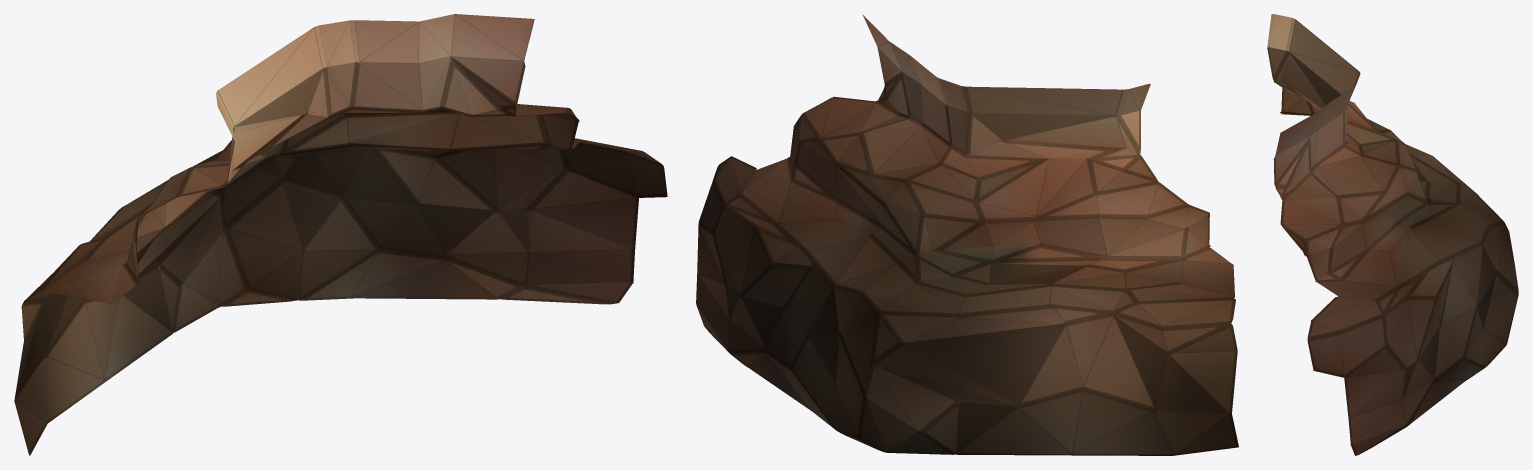
Rendered from structure_wall002.glb.
The picture shows the model from 3 angles, left to right: view 1: azimuth 30°, elevation 25°; view 2: azimuth 150°, elevation 25°; view 3: azimuth 270°, elevation 25°; orthographic projection. The views are drawn at different scales.
Parts seen in each view (by area): view 1: roomwall.002; view 2: roomwall.002; view 3: roomwall.002.
Boxes of the visible parts, left/top/right/bottom form: roomwall.002: left=14, top=14, right=667, bottom=455; roomwall.002: left=696, top=15, right=1238, bottom=455; roomwall.002: left=1267, top=14, right=1518, bottom=455.
Size of the model in its own units: 12.42 by 6.72 by 5.58.
Materials: 1 (1 with a texture image).
